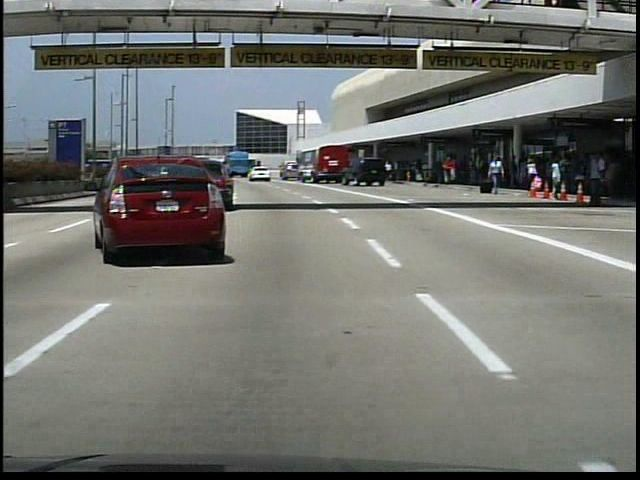person: (583, 155, 602, 206), (486, 154, 506, 196), (440, 156, 457, 185), (383, 161, 395, 183)
